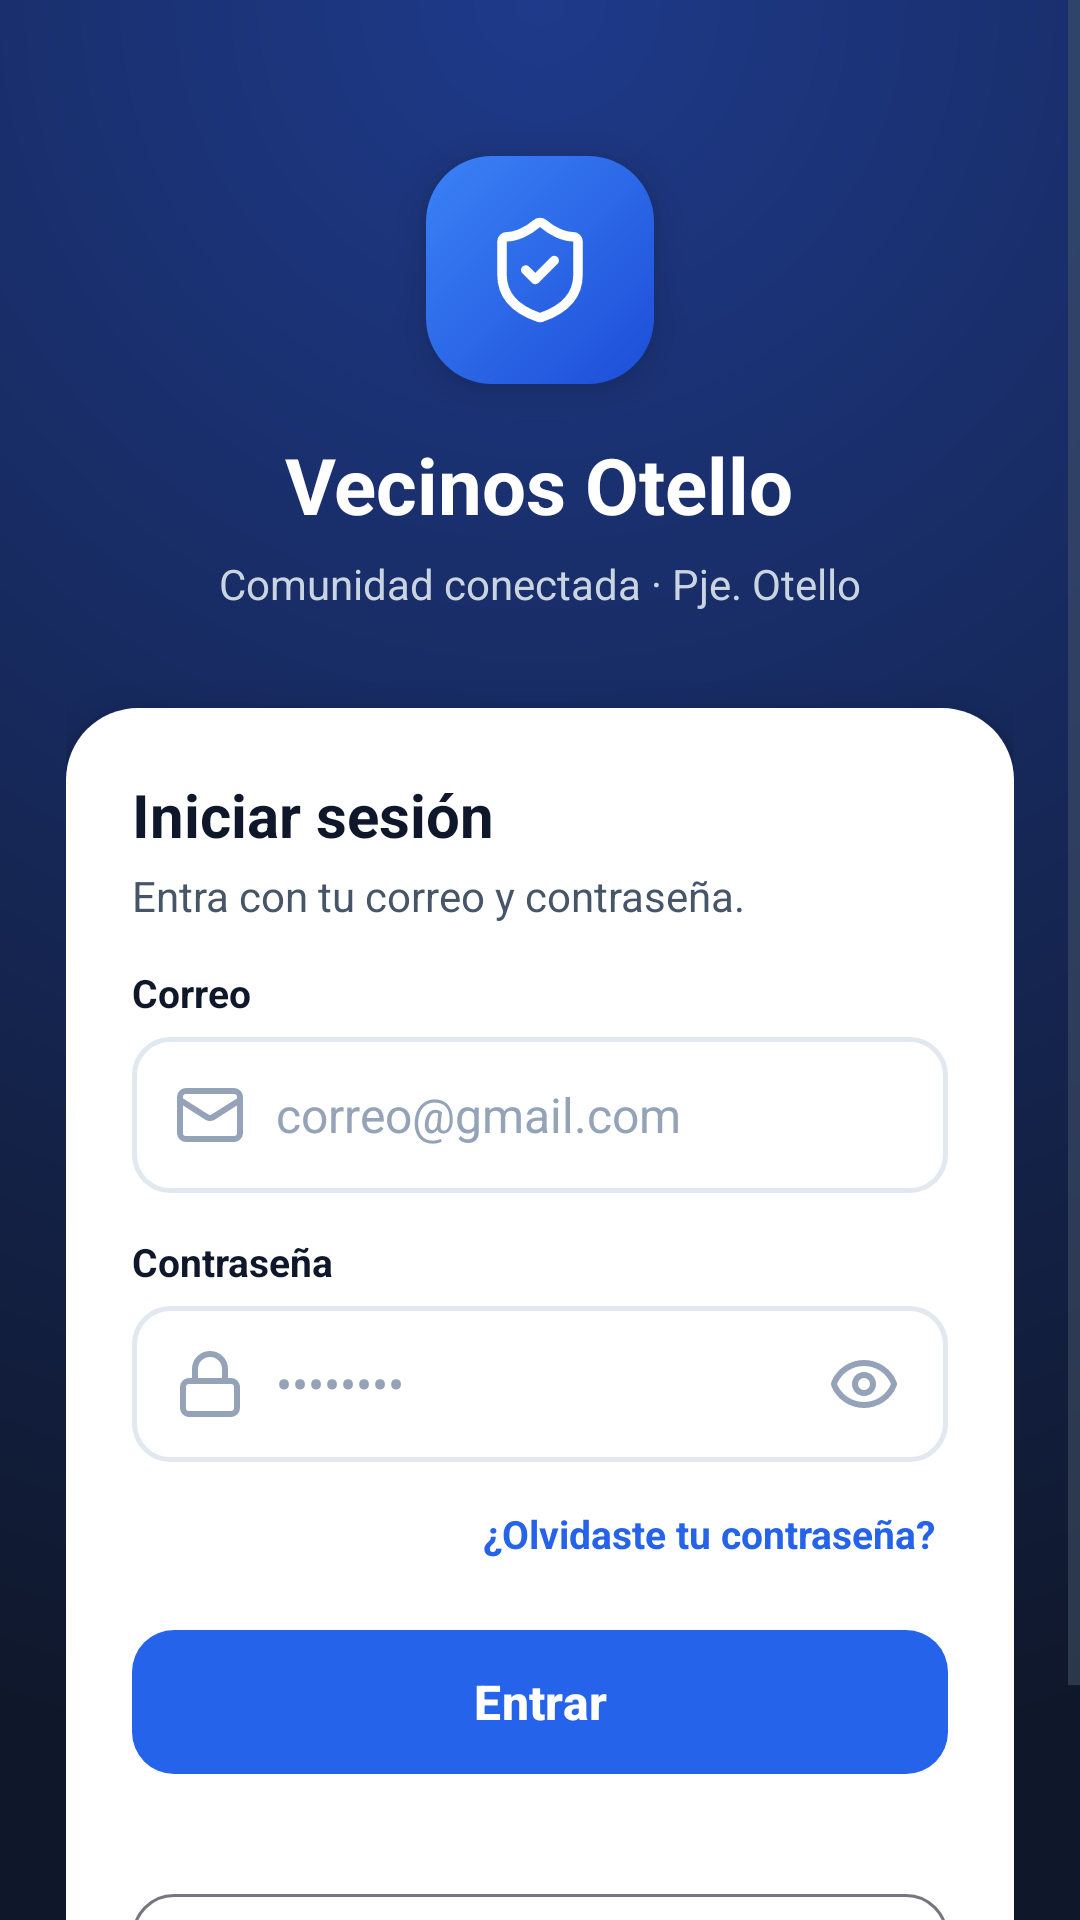

Named icons in this screenshot (1080×1920) and their centers, (x,y):
escudo: (540,270)
Mostrar contraseña: (864,1384)
